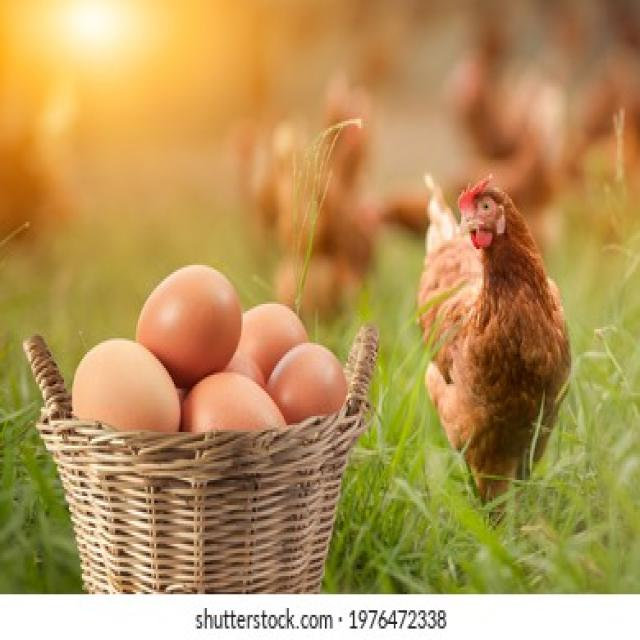Brown Egg: (132, 258, 243, 372), (69, 334, 180, 442), (182, 365, 283, 453), (260, 339, 354, 425), (237, 294, 312, 383)
